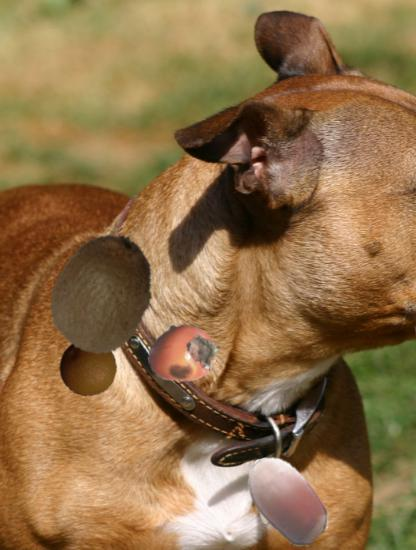Hazelnut: (238, 450, 336, 548)
Kaki: (147, 316, 221, 390)
Kiwi: (39, 229, 165, 355)
Orange: (59, 337, 119, 397)
